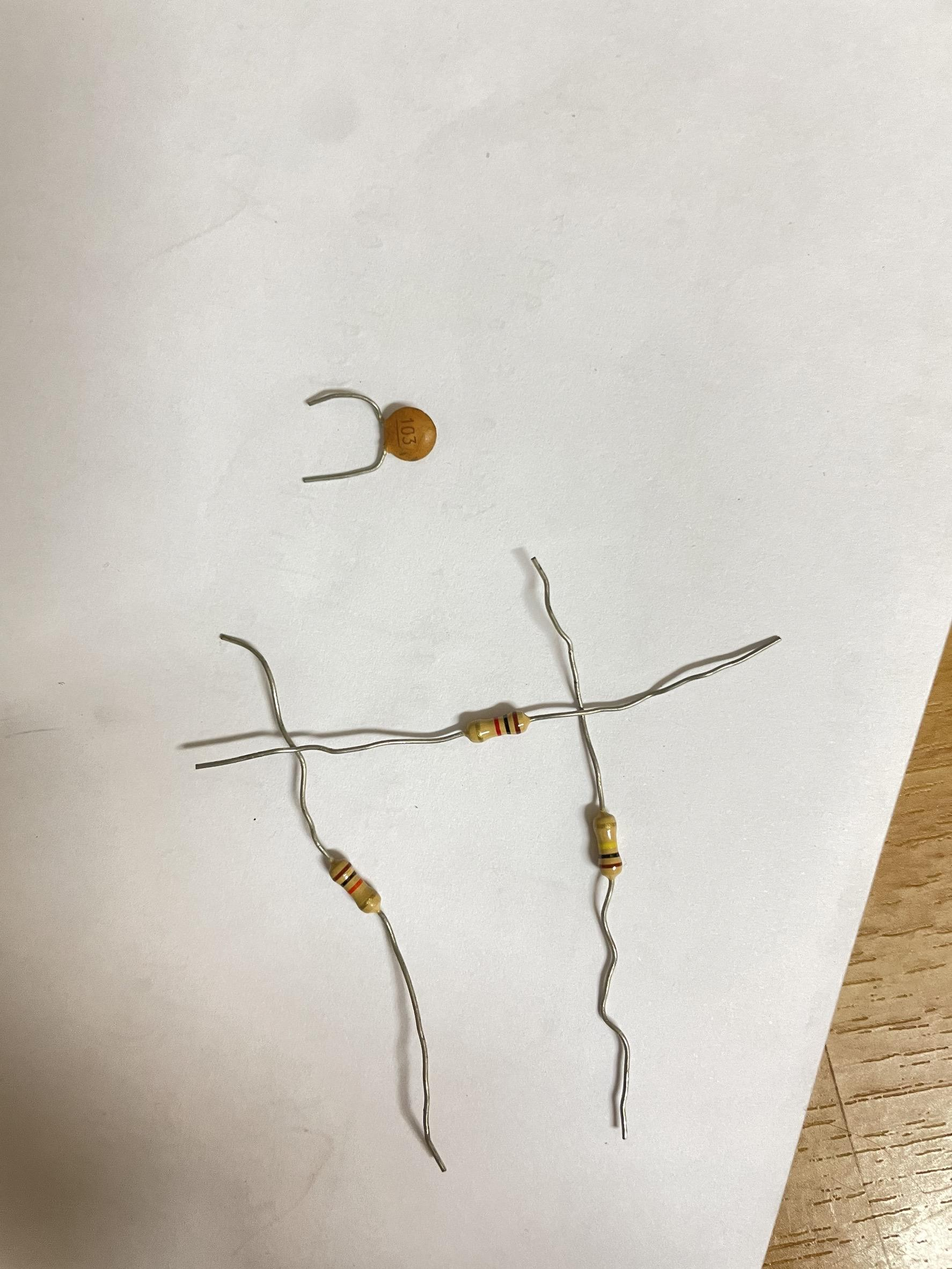resistor: (327, 854, 383, 914), (465, 707, 534, 745), (591, 813, 623, 886)
